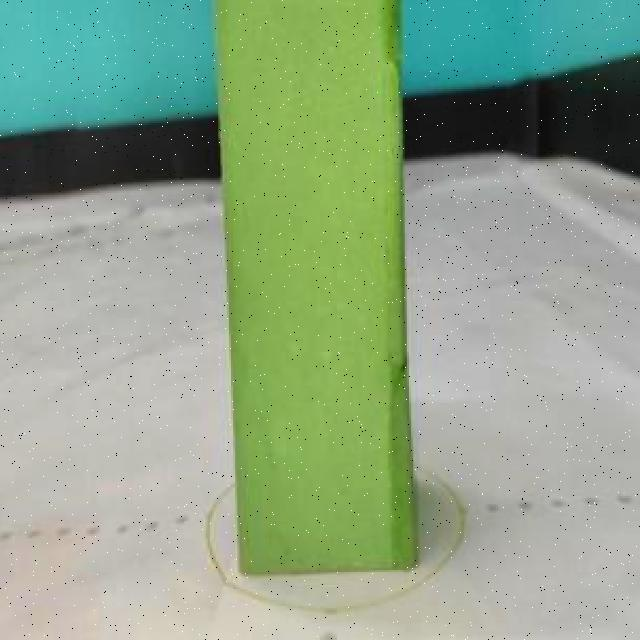greenbox: (208, 0, 422, 574)
